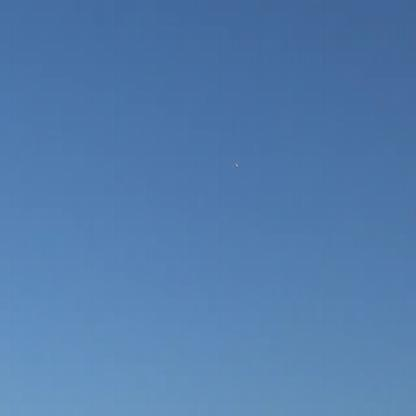CIV_Plane: (232, 161, 244, 171)
